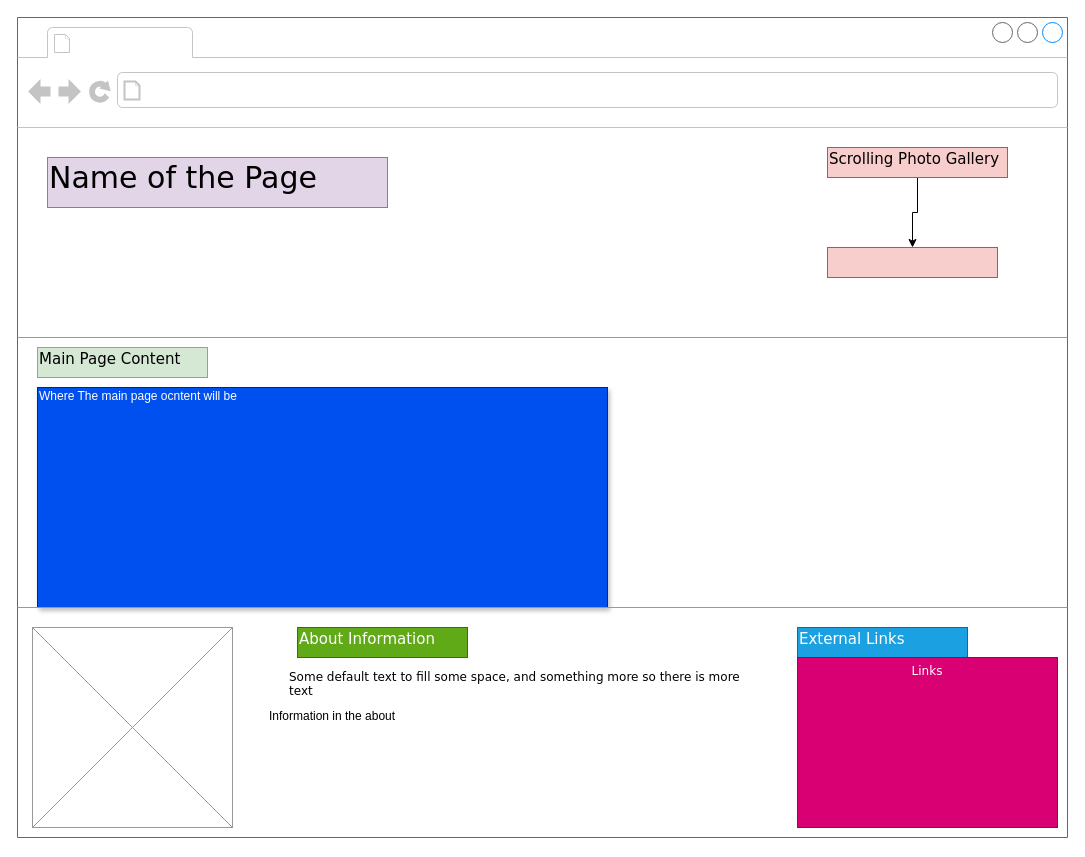
This 1085x857 diagram has some shape labels left out. Here are the shapes that lost their labels. From the top down, the centre of each, then its label:
At (x=132, y=42): "Page 1".
At (x=272, y=90): "https://www.default.com".
At (x=912, y=262): "Photo Gallery".
